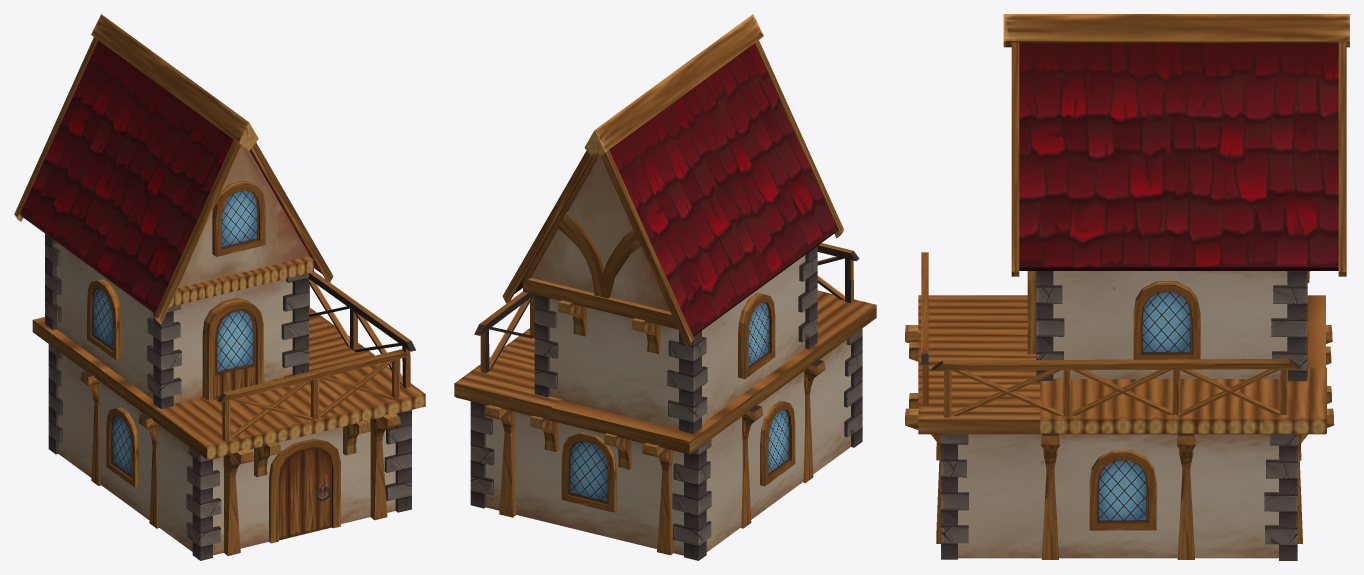
Rendered from building_3_1.FBX.
3 views of the same model, side by side, from view 1: azimuth 30°, elevation 25°; view 2: azimuth 150°, elevation 25°; view 3: azimuth 270°, elevation 25° (orthographic). The views are drawn at different scales.
Parts seen in each view (by area): view 1: building_3_1; view 2: building_3_1; view 3: building_3_1.
Boxes of the visible parts, x1,y1,x2,y2 form: building_3_1: (14, 14, 425, 560); building_3_1: (454, 14, 876, 560); building_3_1: (905, 14, 1349, 560).
Size of the model in its own units: 239 by 392 by 337.
